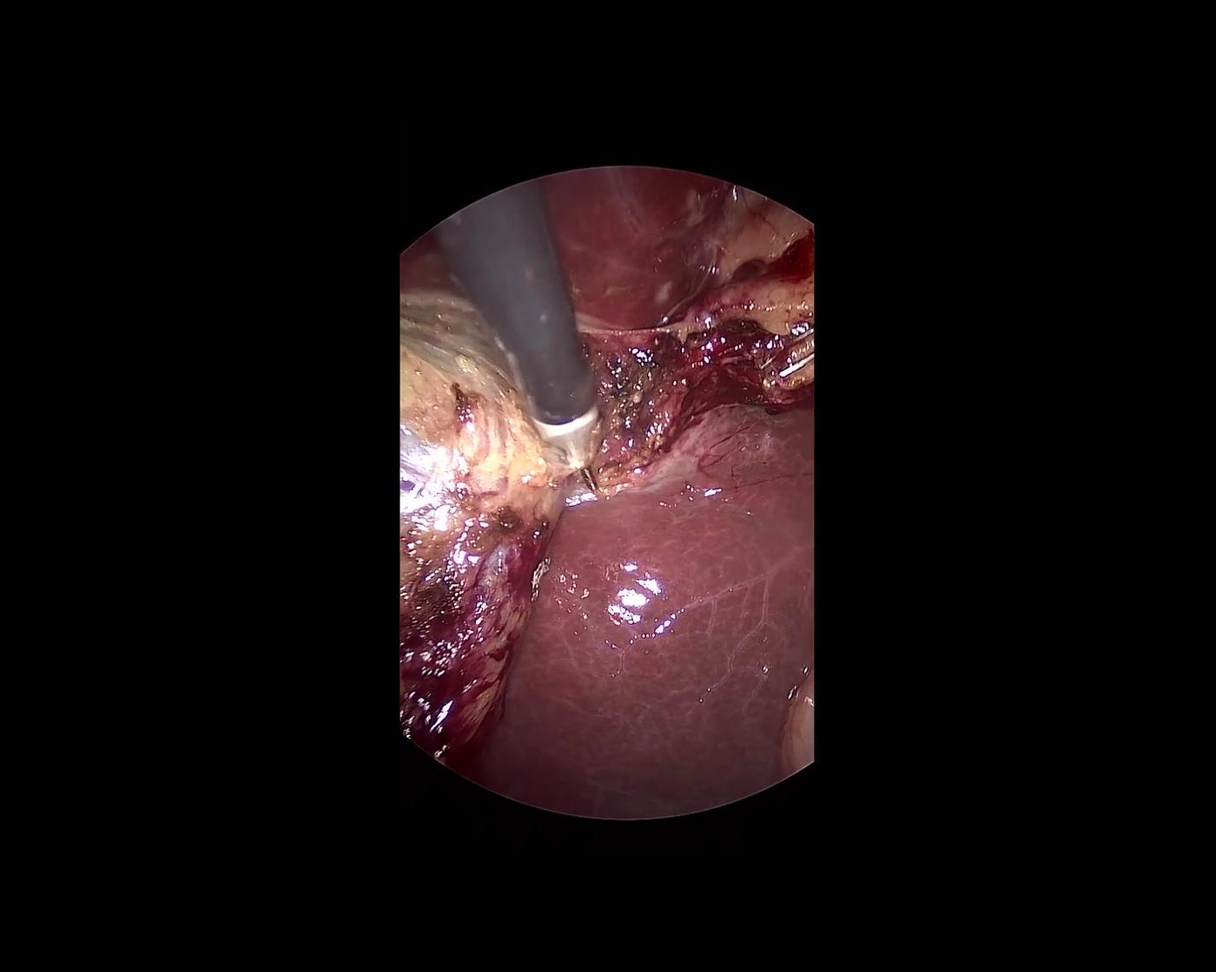Cautery: (426, 179, 626, 515)
Gallbladder: (399, 290, 567, 758)
Liver: (456, 340, 883, 865), (396, 134, 728, 346)
